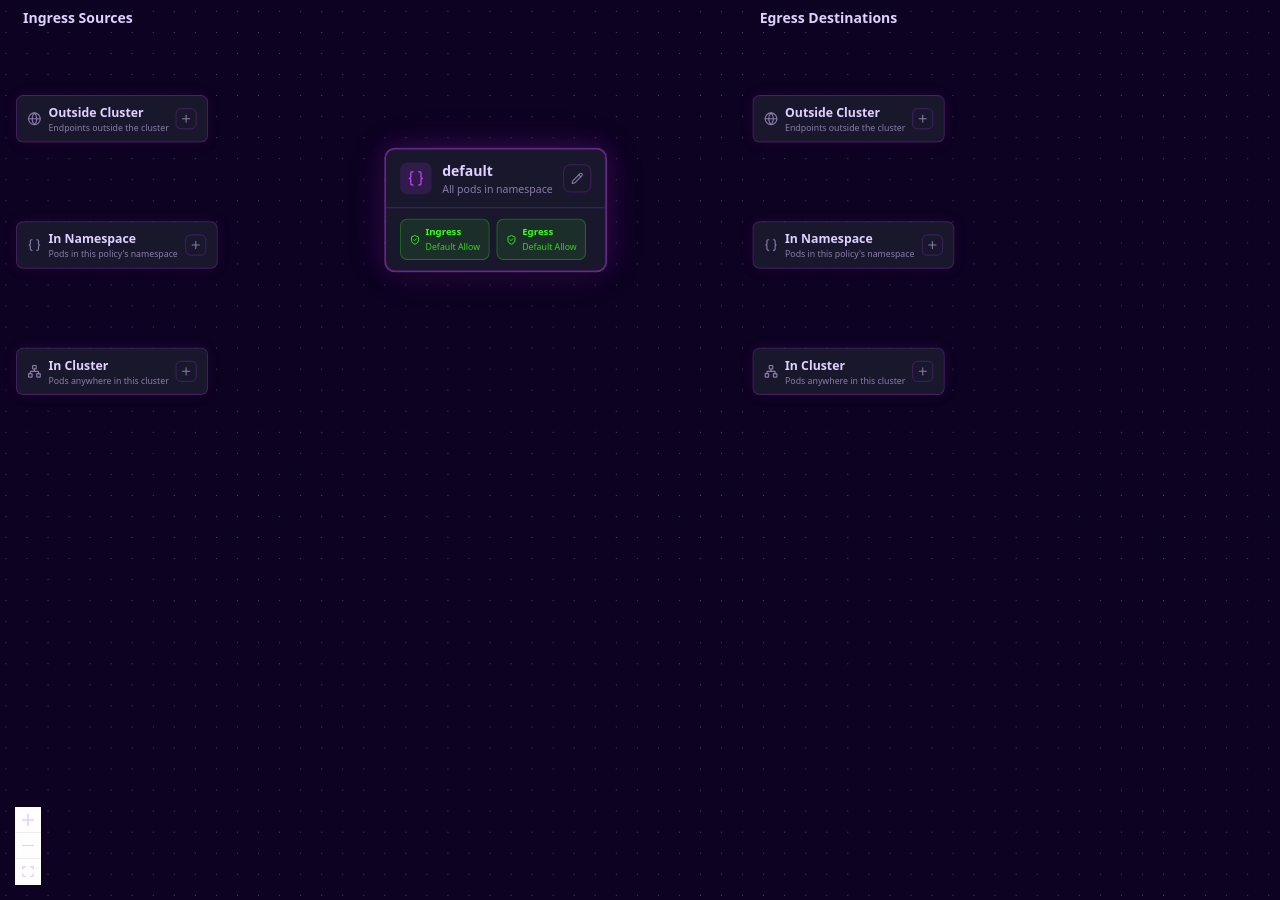
Test: adding a rule › adds the rule the picked type describes
The image size is (1280, 900).
Click the button named "New Ingress rule (Outside Cluster)" at {"x": 186, "y": 119}, box [176,108,197,129]
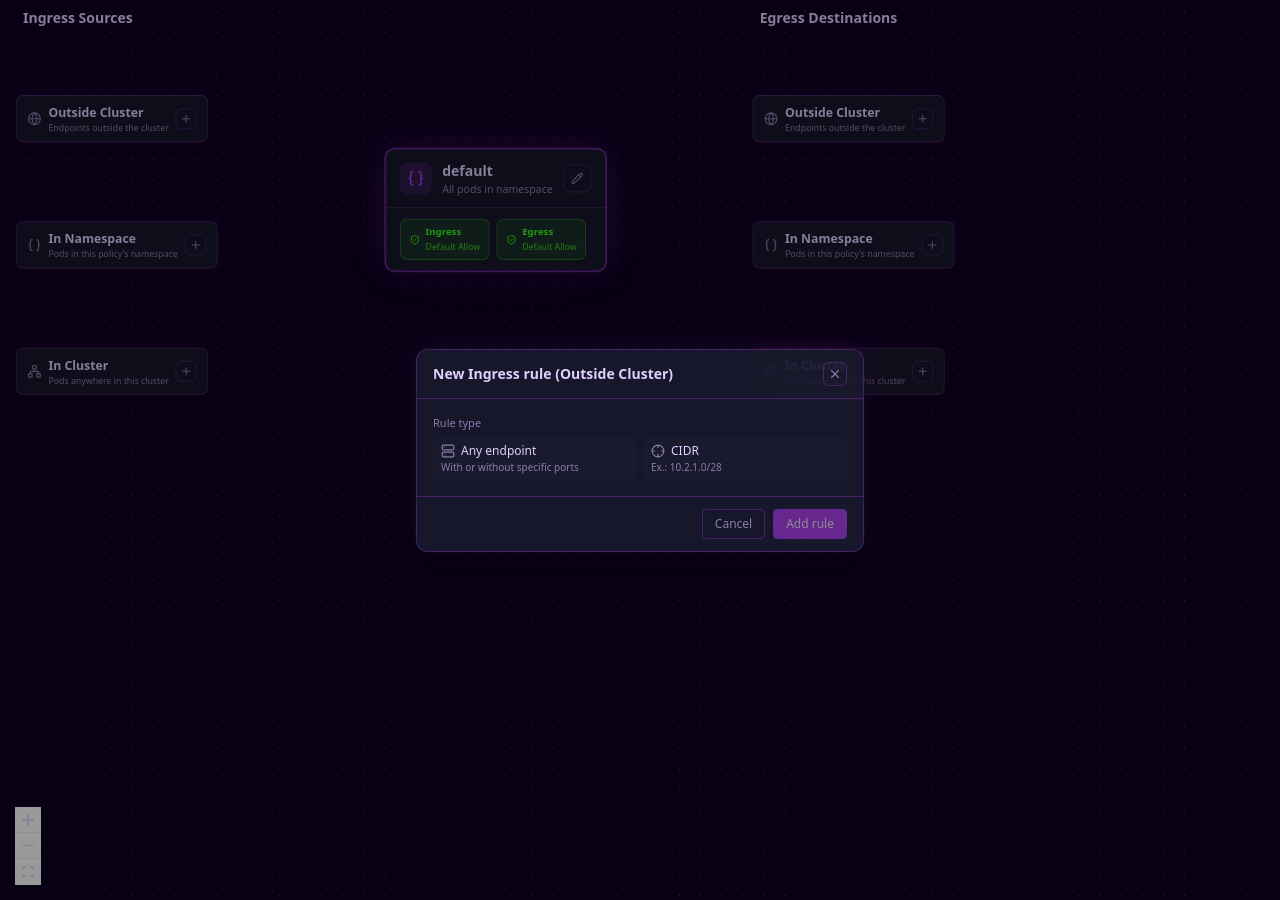
Click the button "CIDR Ex.: 10.2.1.0/28" at {"x": 745, "y": 458}, box [643,437,847,480]
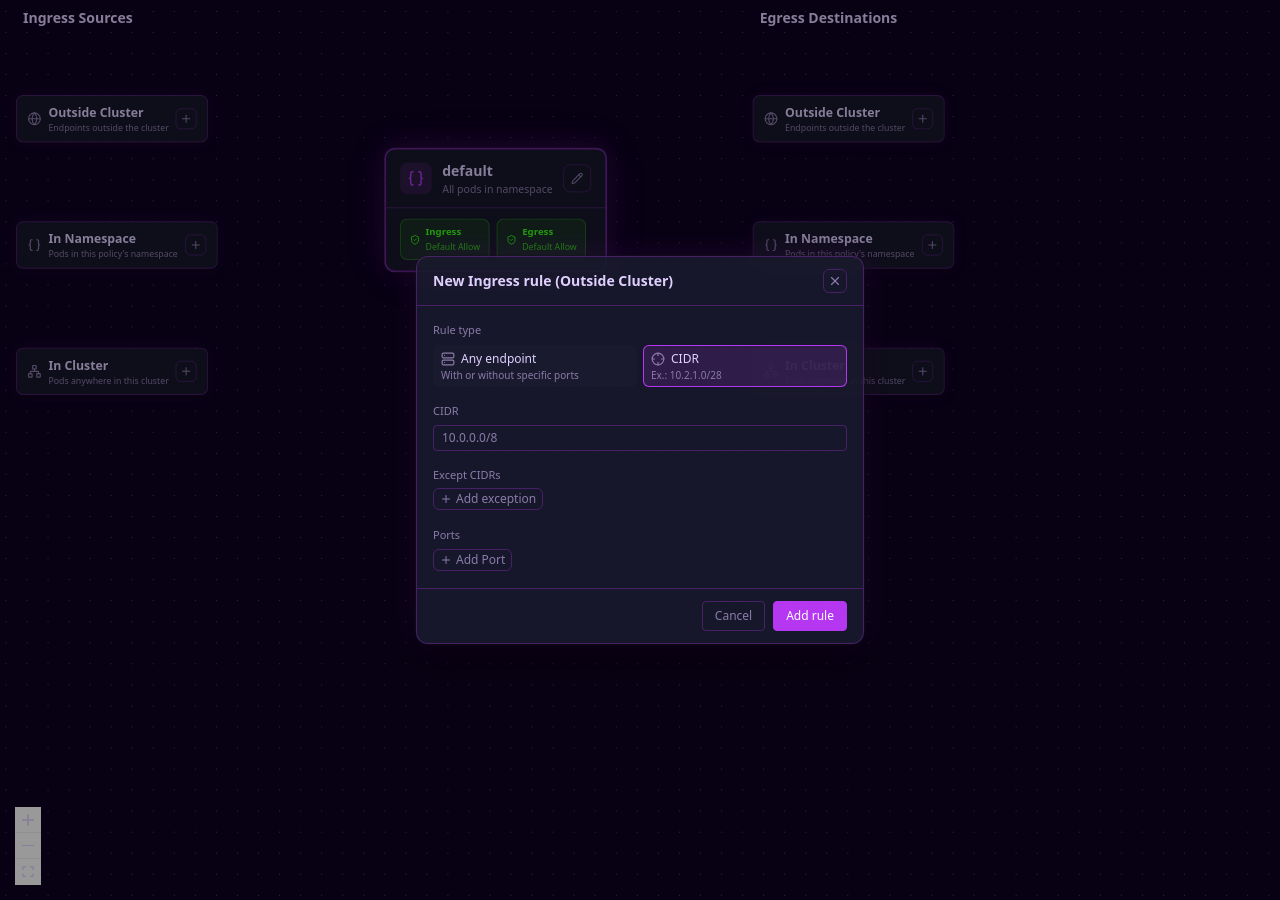
Type "10.2.1.0/28" into the field with placeholder "10.0.0.0/8" at {"x": 640, "y": 438}, box [433,425,847,451]
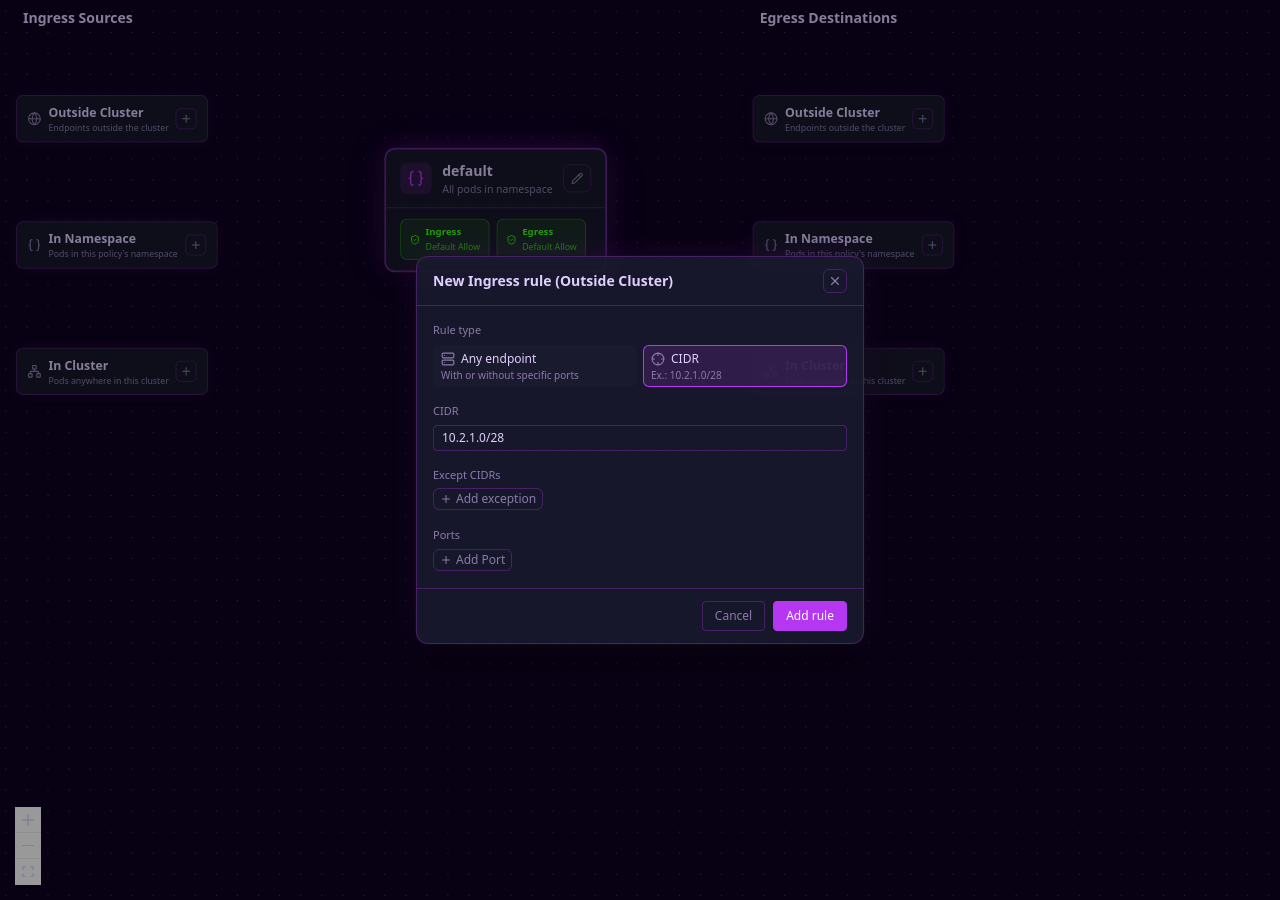
Click the button "Add rule" at {"x": 810, "y": 616}, box [773,601,847,631]
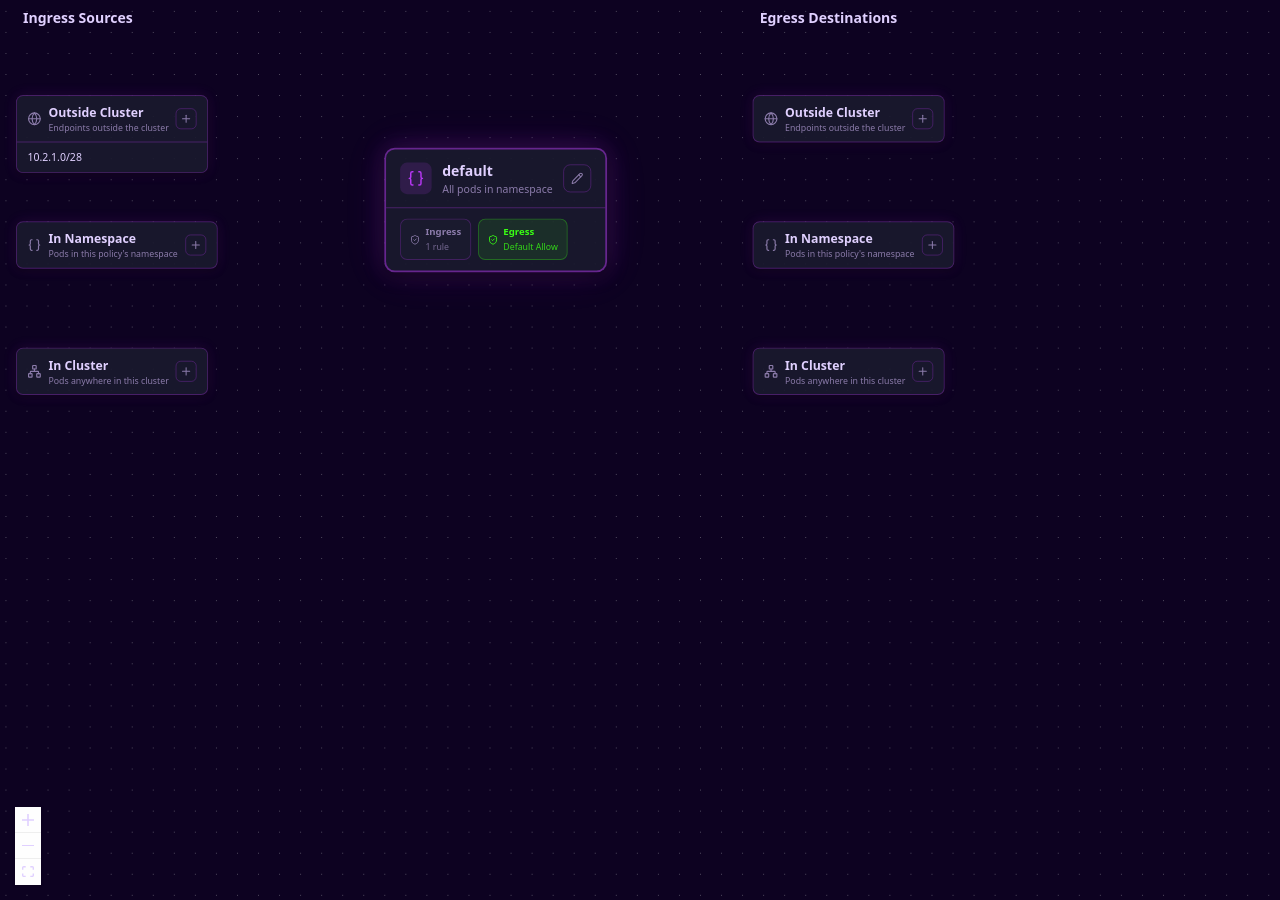
Check: the text "10.2.1.0/28" is shown, box [27,149,82,164]
Check: the dialog is gone
